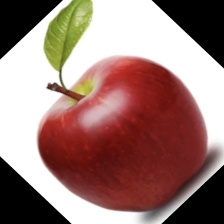apple: (23, 17, 224, 192)
